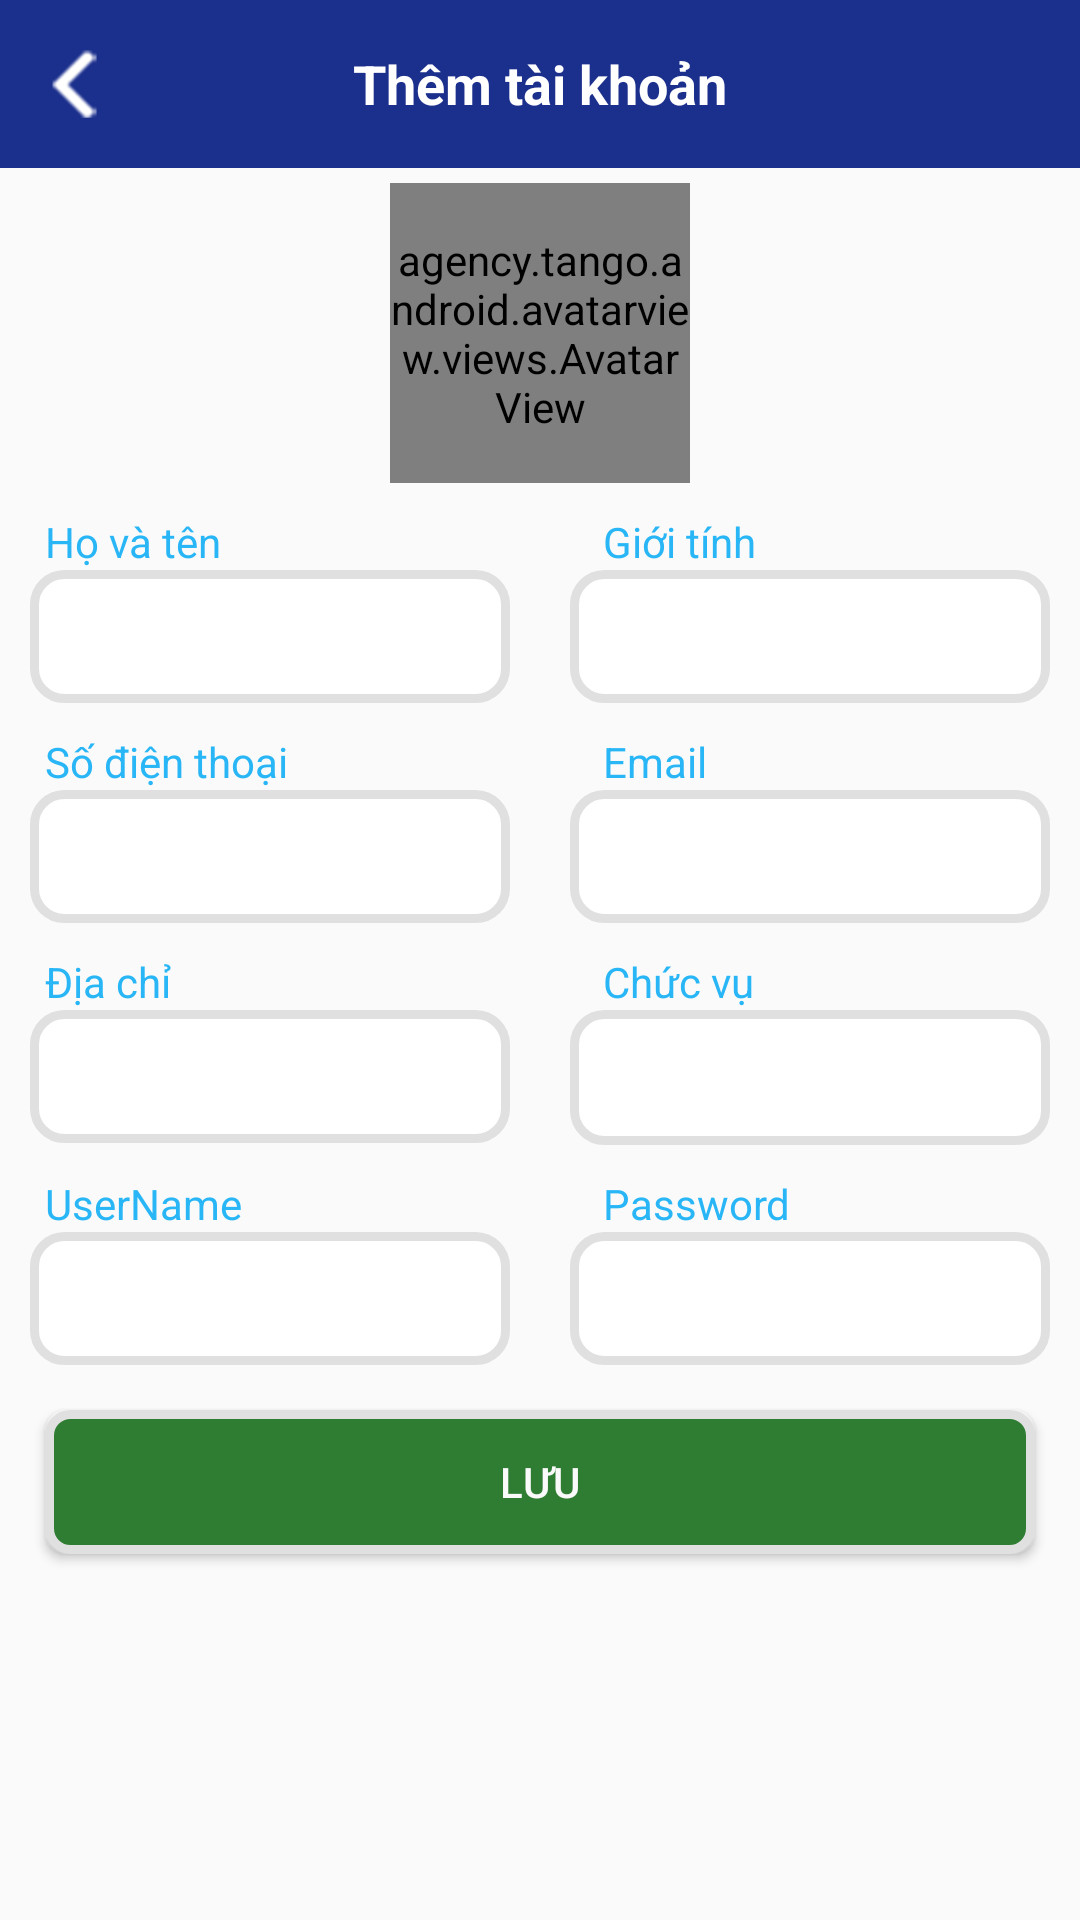

Icon click points for this 1080*1920 phone screenshot, format [x,y]:
arrow left: [74,84]
